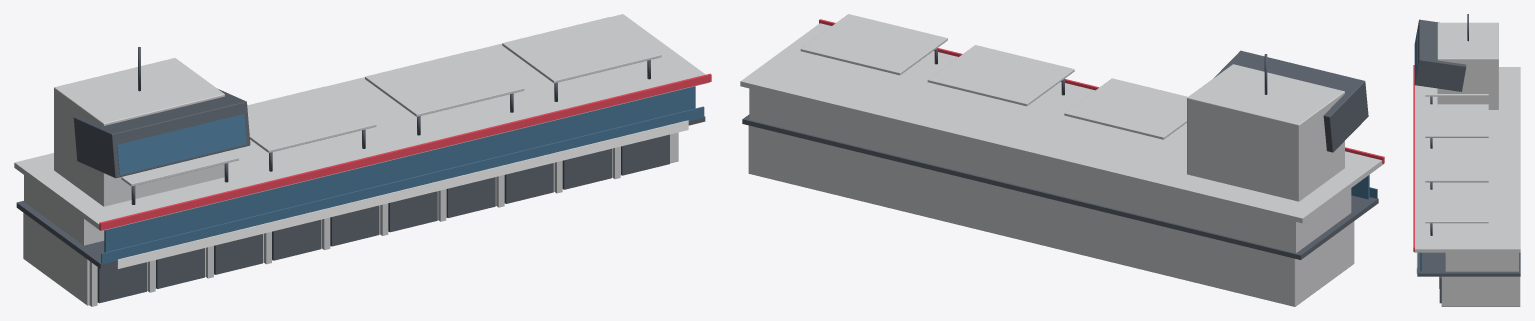
File: pit_building.glb
3 renders of one model, left to right at view 1: azimuth 30°, elevation 25°; view 2: azimuth 150°, elevation 25°; view 3: azimuth 270°, elevation 25°, orthographic. The views are drawn at different scales.
Visible parts, largest first — view 1: RoofDeck, ClubGlassWall, RaceControlShaft, ClubBalconyRail, PitLaneBanner, PergolaCanopy_20, PergolaCanopy_7, RoofFasciaRed, RaceControlPod, PergolaCanopy_-7, RaceControlGlass, GarageCore (+13 smaller); view 2: GarageCore, RoofDeck, ClubBackCore, RaceControlShaft, PergolaCanopy_7, PergolaCanopy_20, PergolaCanopy_-7, ClubSlabBot, RaceControlPod, RoofFasciaRed; view 3: RoofDeck, RaceControlShaft, GarageCore, PergolaCanopy_7, PergolaCanopy_20, PergolaCanopy_-7, RaceControlPod, ClubBackCore, ClubSlabBot, RoofFasciaRed, PergolaCanopy_-20, RaceControlGlass.
Part boxes in pixels (left/top/right/bottom): RoofDeck: left=14, top=14, right=709, bottom=230; ClubGlassWall: left=104, top=86, right=695, bottom=252; RaceControlShaft: left=54, top=58, right=224, bottom=206; ClubBalconyRail: left=101, top=106, right=704, bottom=264; PitLaneBanner: left=117, top=120, right=688, bottom=268; PergolaCanopy_20: left=502, top=17, right=661, bottom=83; PergolaCanopy_7: left=365, top=50, right=524, bottom=116; RoofFasciaRed: left=99, top=73, right=711, bottom=230; RaceControlPod: left=73, top=88, right=250, bottom=178; PergolaCanopy_-7: left=247, top=86, right=376, bottom=152; RaceControlGlass: left=117, top=114, right=246, bottom=174; GarageCore: left=23, top=132, right=678, bottom=305; GarageCore: left=748, top=125, right=1354, bottom=306; RoofDeck: left=740, top=23, right=1382, bottom=223; ClubBackCore: left=749, top=88, right=1351, bottom=253; RaceControlShaft: left=1187, top=64, right=1344, bottom=201; PergolaCanopy_7: left=927, top=45, right=1074, bottom=106; PergolaCanopy_20: left=800, top=14, right=947, bottom=75; PergolaCanopy_-7: left=1064, top=78, right=1187, bottom=139; ClubSlabBot: left=742, top=114, right=1378, bottom=259; RaceControlPod: left=1214, top=50, right=1368, bottom=152; RoofFasciaRed: left=819, top=19, right=1384, bottom=164; RoofDeck: left=1414, top=67, right=1520, bottom=252; RaceControlShaft: left=1437, top=22, right=1498, bottom=109; GarageCore: left=1441, top=276, right=1520, bottom=306; PergolaCanopy_7: left=1425, top=148, right=1488, bottom=182; PergolaCanopy_20: left=1425, top=189, right=1488, bottom=223; PergolaCanopy_-7: left=1425, top=104, right=1488, bottom=137; RaceControlPod: left=1414, top=19, right=1466, bottom=91; ClubBackCore: left=1445, top=252, right=1518, bottom=271; ClubSlabBot: left=1417, top=252, right=1520, bottom=276; RoofFasciaRed: left=1413, top=65, right=1414, bottom=251; PergolaCanopy_-20: left=1425, top=86, right=1488, bottom=96; RaceControlGlass: left=1414, top=27, right=1417, bottom=82.
Bounding box in the file's own units: 57.8 × 20.3 × 14.33.
